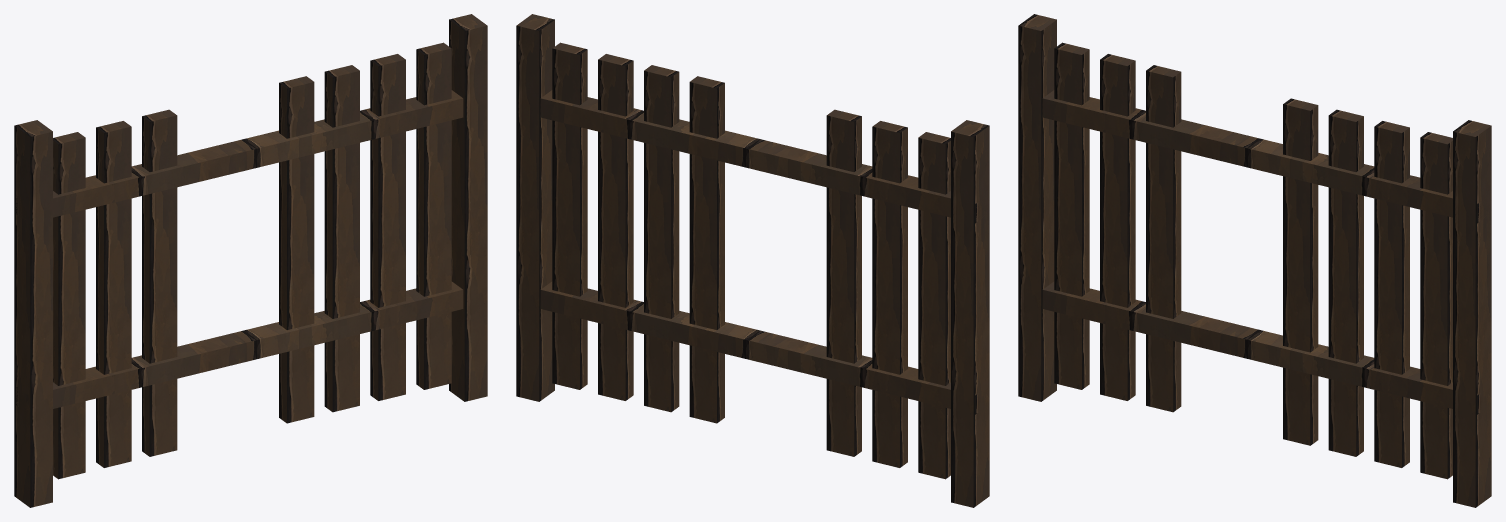
Rendered from fence_broken.glb.
The picture shows the model from 3 angles, left to right: view 1: azimuth 30°, elevation 25°; view 2: azimuth 150°, elevation 25°; view 3: azimuth 330°, elevation 25°; orthographic projection.
Parts seen in each view (by area): view 1: fence_broken; view 2: fence_broken; view 3: fence_broken.
Part boxes in pixels (x1,y1,x2,y2): fence_broken: (14, 14, 487, 507); fence_broken: (516, 14, 989, 507); fence_broken: (1018, 14, 1491, 507).
Bounding box in the file's own units: 2 × 1.55 × 0.12.
Materials: 1 (1 with a texture image).
